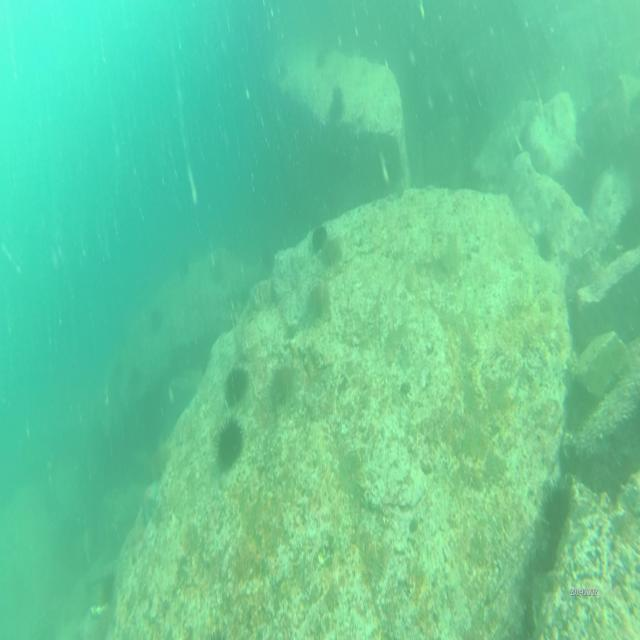echinus: (214, 413, 244, 476), (223, 362, 252, 408), (270, 362, 296, 410), (533, 221, 558, 268), (304, 282, 328, 325), (328, 81, 347, 120), (321, 236, 343, 267), (309, 224, 329, 258), (210, 253, 228, 288), (275, 60, 292, 90), (176, 254, 193, 284), (109, 354, 123, 387), (313, 48, 330, 73), (128, 360, 143, 388), (150, 303, 162, 336)
